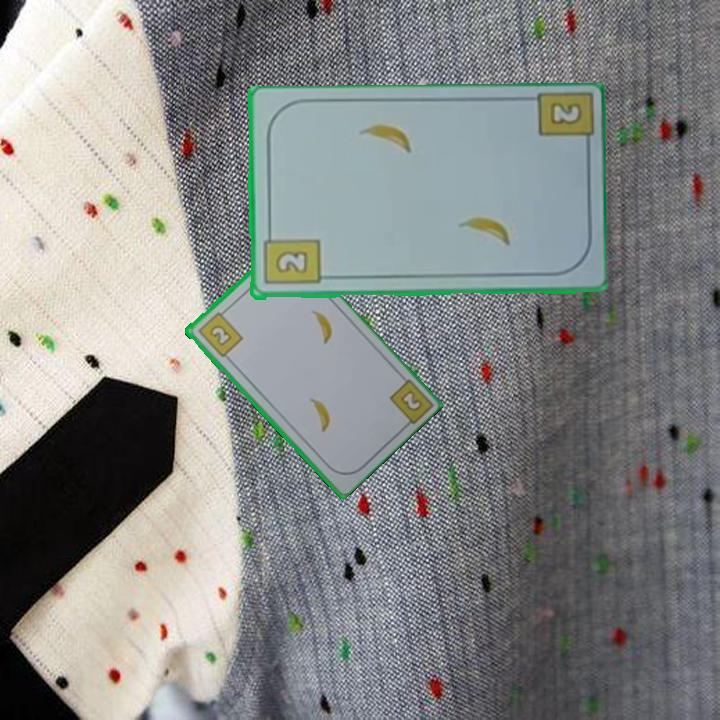2b: (260, 227, 322, 288), (194, 306, 245, 360), (546, 99, 582, 128), (399, 389, 423, 412)
